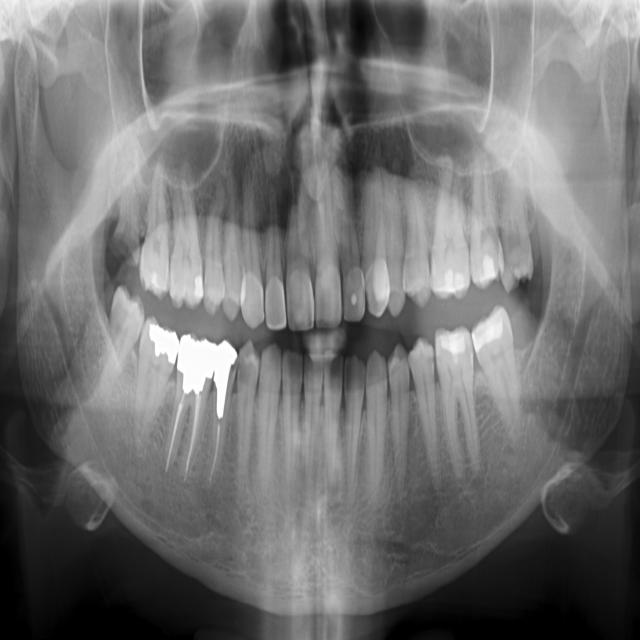tooth: (168, 335, 214, 476), (473, 309, 520, 432), (435, 328, 475, 471), (430, 160, 471, 298), (97, 285, 144, 387), (467, 158, 503, 287), (135, 319, 177, 422), (170, 179, 202, 306), (314, 187, 343, 326), (284, 191, 313, 330), (140, 165, 170, 296), (361, 184, 391, 315), (500, 185, 534, 290), (387, 345, 409, 498), (364, 350, 387, 494), (408, 338, 437, 452), (235, 343, 259, 480), (256, 346, 280, 481), (404, 191, 432, 306), (341, 185, 364, 321), (201, 183, 223, 312), (281, 350, 303, 476), (214, 342, 235, 473), (264, 208, 285, 331), (344, 355, 364, 484), (323, 355, 343, 481), (302, 354, 323, 468), (241, 228, 264, 326), (221, 218, 243, 319)
